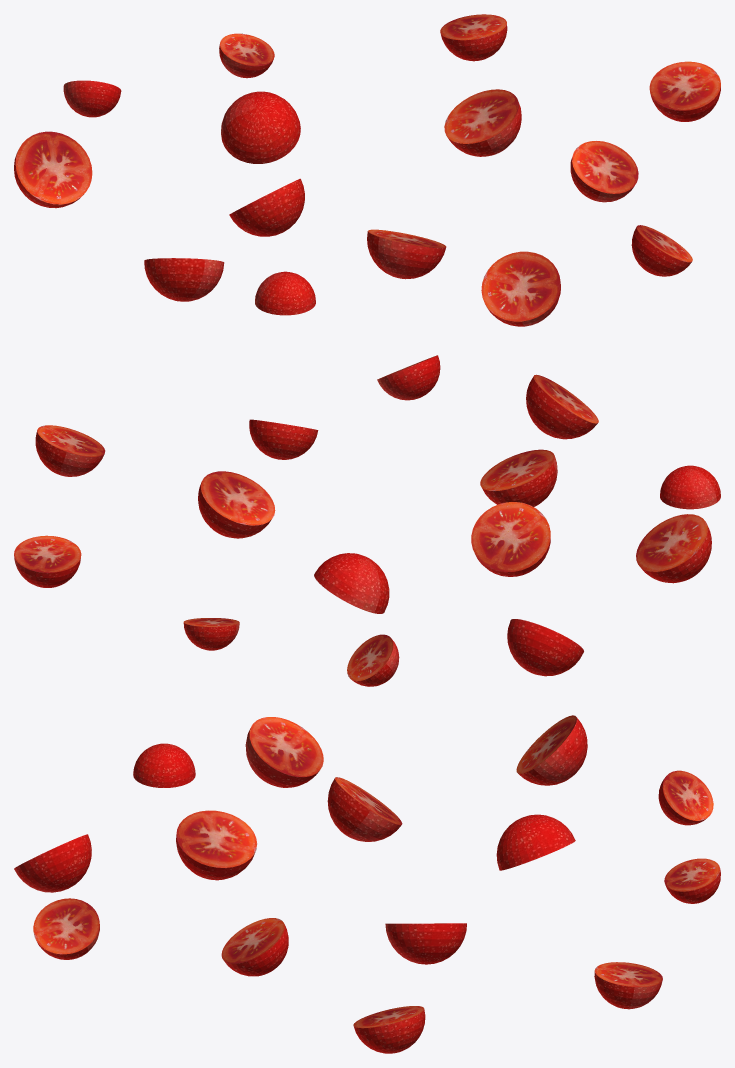
Rendered from tomaatje_op_pizza.glb.
3 renders of one model, top to bottom at view 1: azimuth 30°, elevation 25°; view 2: azimuth 150°, elevation 25°; view 3: azimuth 270°, elevation 25°, orthographic. The views are drawn at different scales.
Visible parts, largest first — view 1: Sphere.007, Sphere.013, Sphere.011, Sphere.004, Sphere.010, Sphere.003, Sphere.002, Sphere.012, Sphere.001, Sphere.005, Sphere.008, Sphere.009 (+2 smaller); view 2: Sphere.001, Sphere.004, Sphere.012, Sphere.002, Sphere.011, Sphere.013, Sphere.007, Sphere.005, Sphere.010, Sphere.008, Sphere.014, Sphere.003 (+2 smaller); view 3: Sphere.002, Sphere.012, Sphere.007, Sphere.009, Sphere.001, Sphere.003, Sphere.011, Sphere.013, Sphere.004, Sphere.010, Sphere.005, Sphere.014 (+2 smaller).
Boxes of the visible parts, x1,y1,x2,y2 form: Sphere.007: (14, 131, 92, 208); Sphere.013: (481, 251, 560, 326); Sphere.011: (221, 91, 300, 163); Sphere.004: (444, 89, 521, 156); Sphere.010: (649, 61, 720, 121); Sphere.003: (570, 141, 638, 202); Sphere.002: (367, 229, 446, 279); Sphere.012: (144, 258, 224, 301); Sphere.001: (229, 178, 304, 236); Sphere.005: (440, 14, 507, 61); Sphere.008: (255, 271, 315, 315); Sphere.009: (631, 225, 692, 276); Sphere.001: (471, 502, 550, 576); Sphere.004: (198, 471, 275, 538); Sphere.012: (636, 514, 711, 583); Sphere.002: (480, 449, 557, 506); Sphere.011: (314, 553, 389, 613); Sphere.013: (526, 374, 598, 439); Sphere.007: (507, 619, 583, 676); Sphere.005: (14, 535, 81, 587); Sphere.010: (35, 425, 105, 476); Sphere.008: (660, 465, 720, 509); Sphere.014: (347, 634, 399, 686); Sphere.003: (249, 419, 318, 459); Sphere.002: (176, 810, 257, 880); Sphere.012: (245, 717, 323, 787); Sphere.007: (516, 715, 587, 785); Sphere.009: (33, 898, 99, 959); Sphere.001: (327, 777, 402, 841); Sphere.003: (221, 918, 288, 976); Sphere.011: (496, 814, 575, 870); Sphere.013: (14, 834, 91, 892); Sphere.004: (385, 923, 466, 964); Sphere.010: (353, 1006, 425, 1053); Sphere.005: (594, 962, 662, 1009); Sphere.014: (658, 770, 713, 825).
Bounding box in the file's own units: 2.13 × 0.2107 × 2.06.
28 materials, 28 textured.
